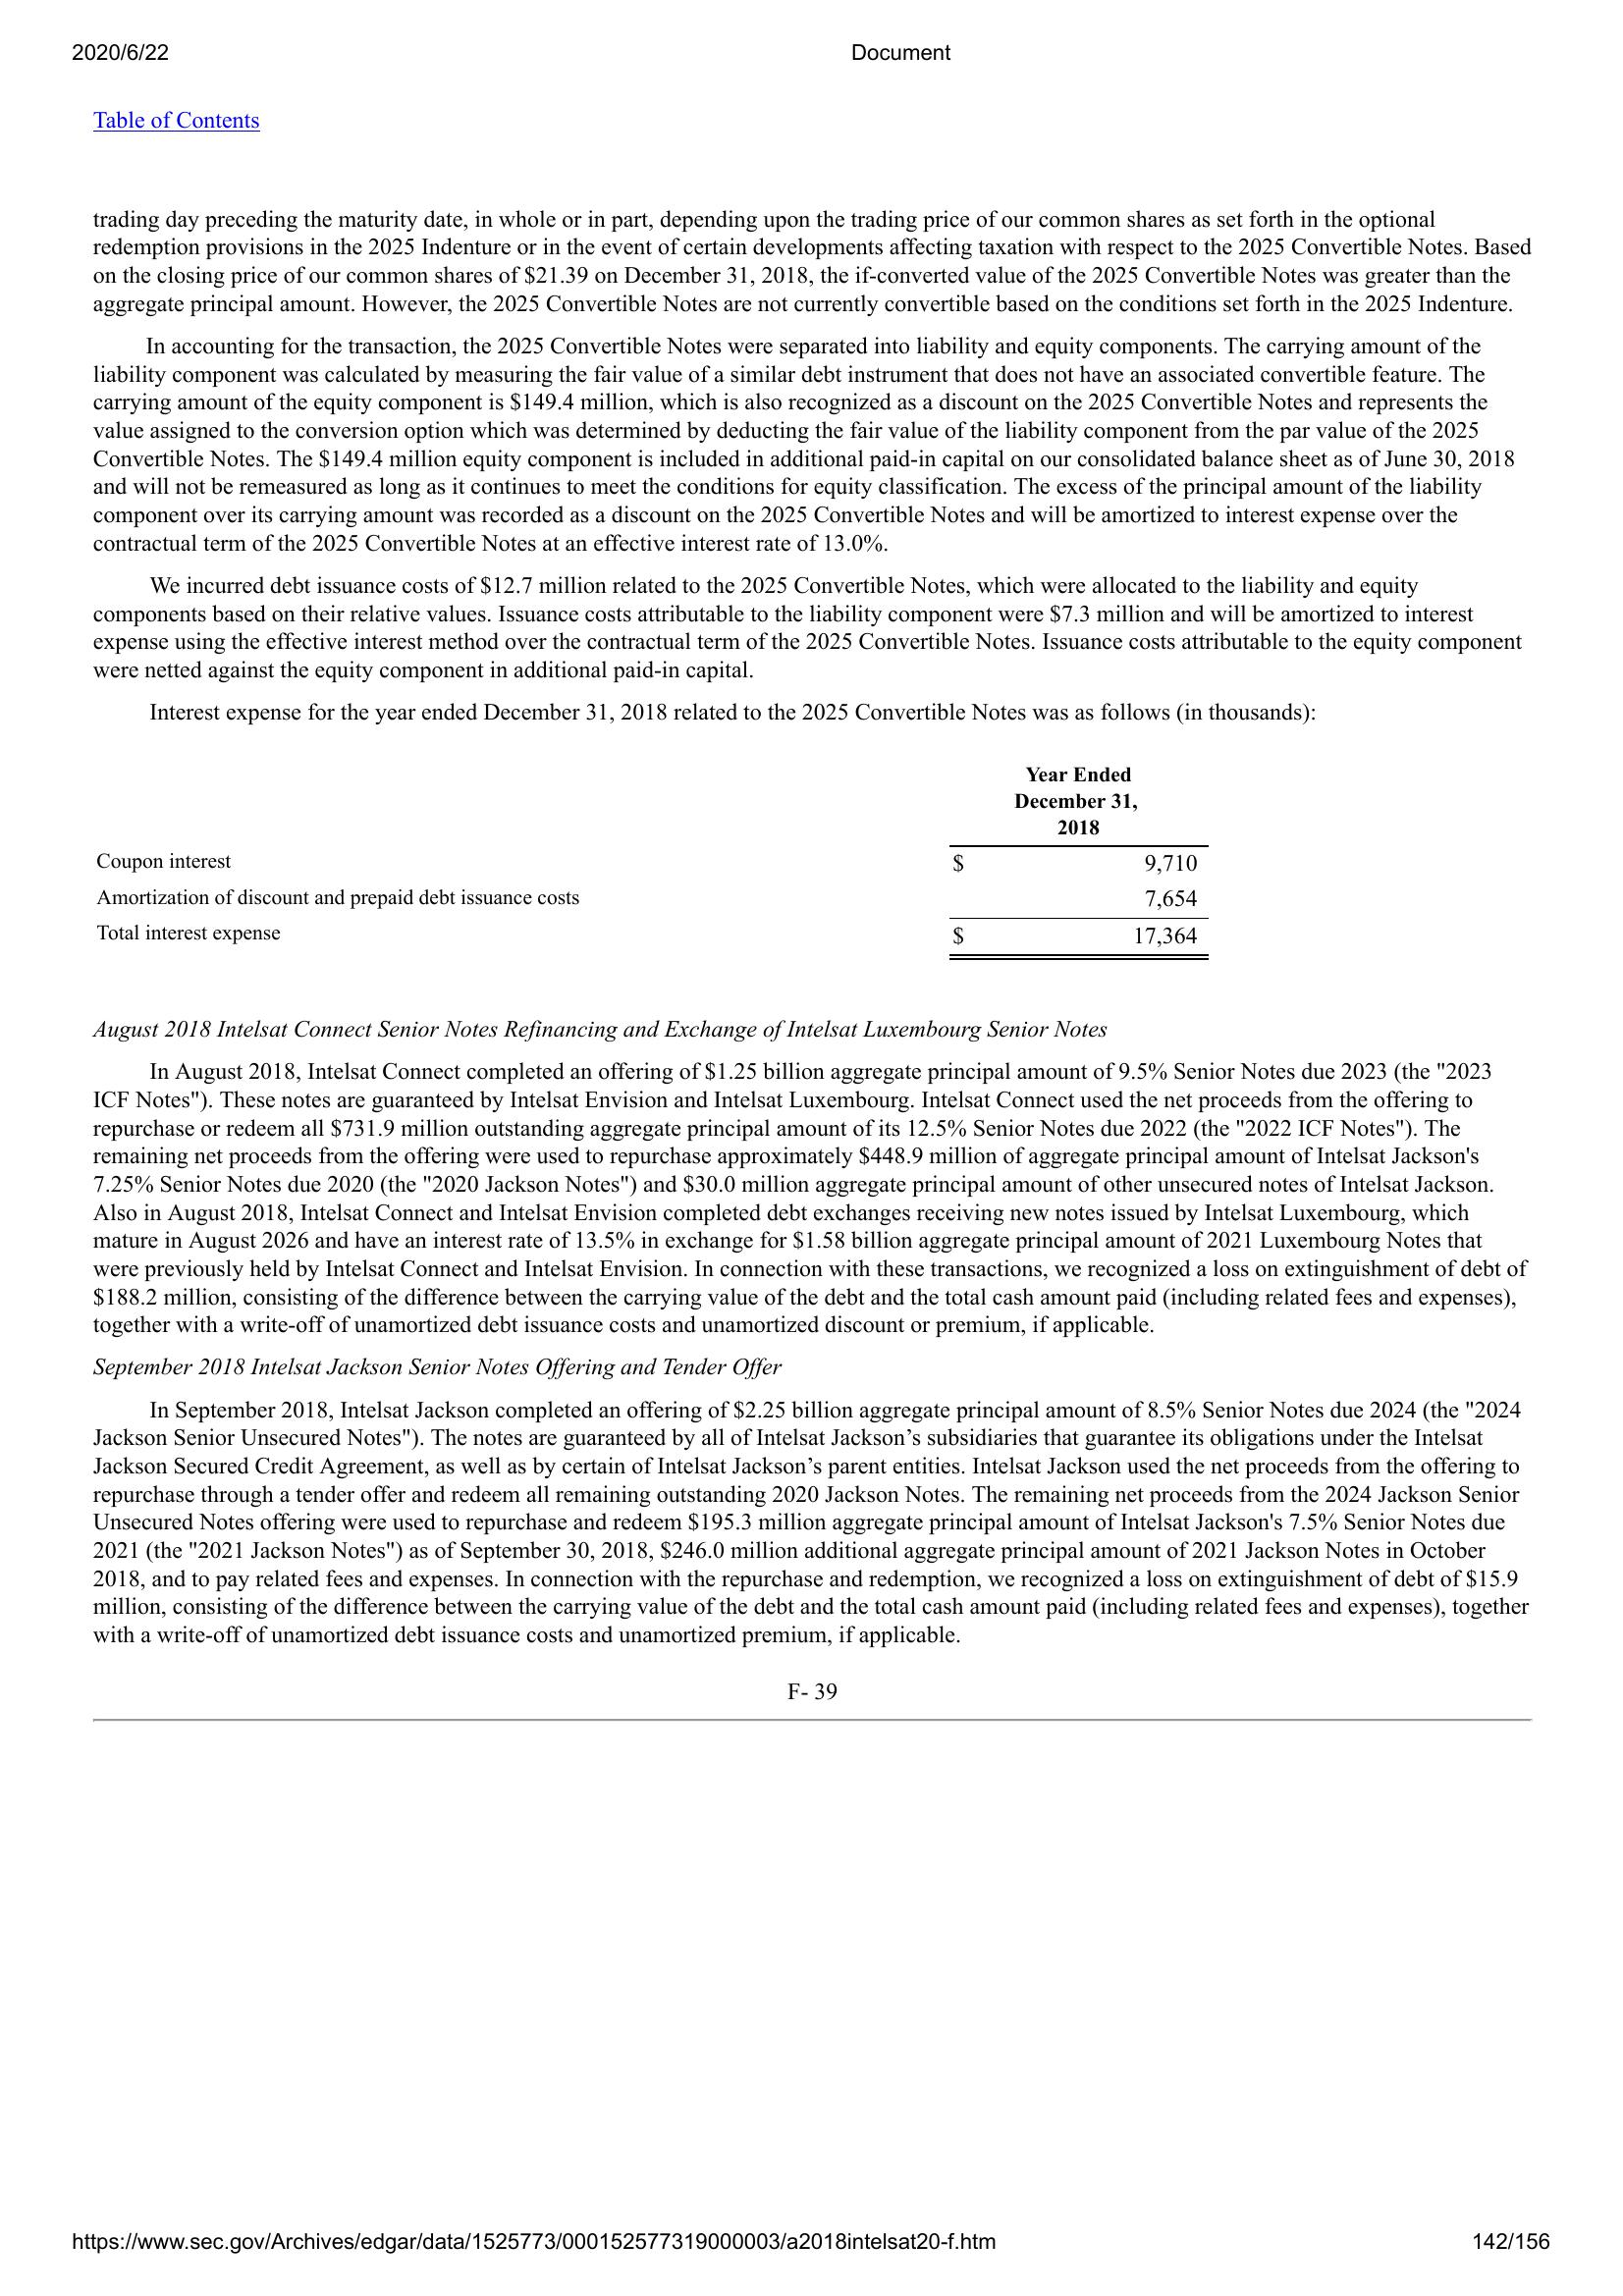table: (90, 760, 1212, 967)
